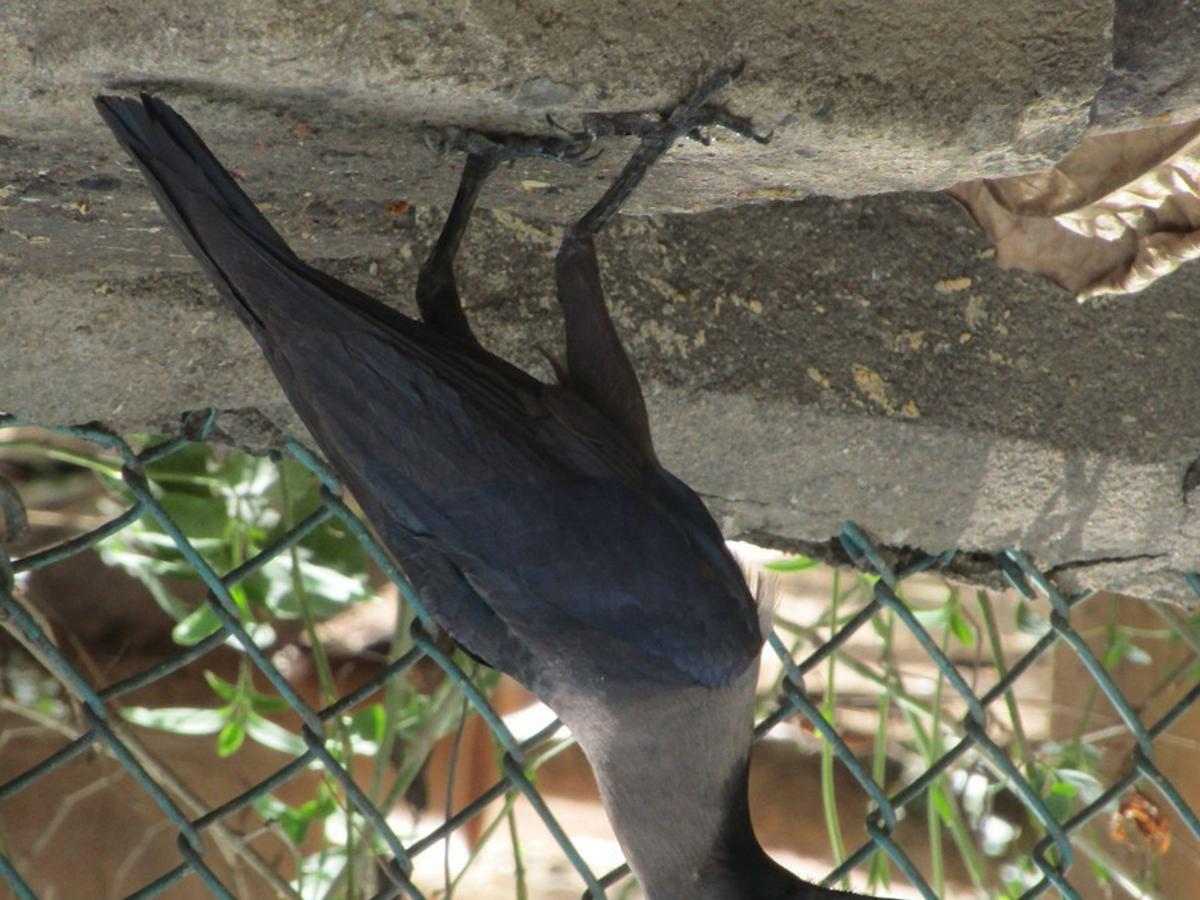crow: (93, 87, 958, 900)
